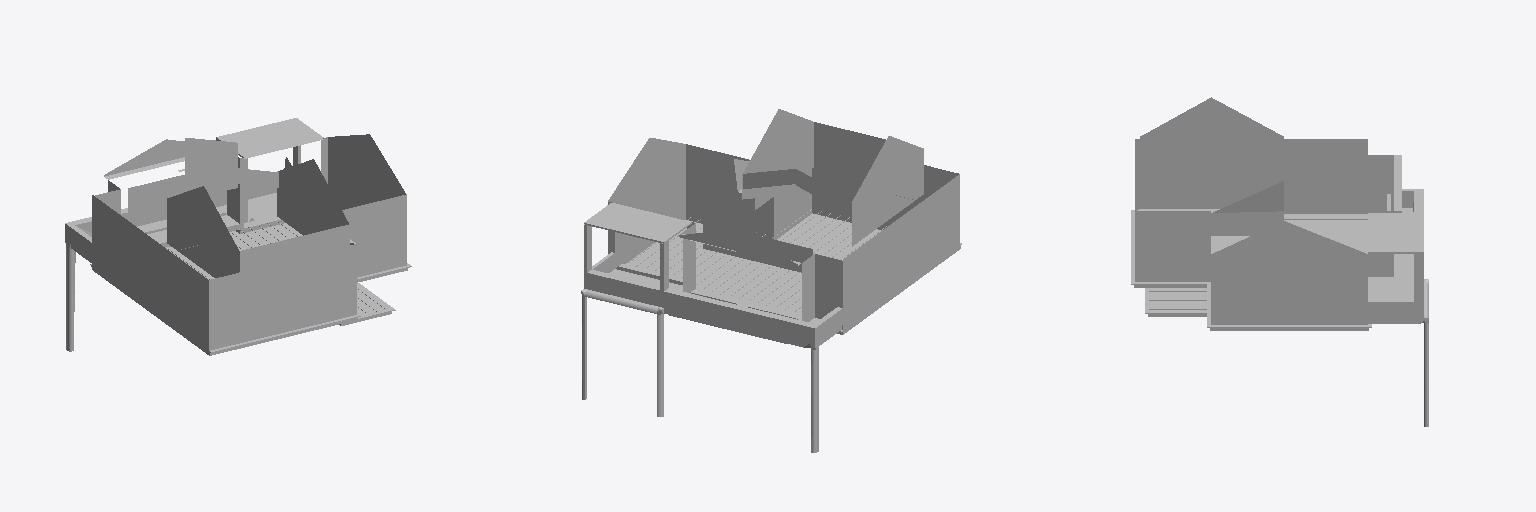
3 views of the same model, side by side, from view 1: azimuth 30°, elevation 25°; view 2: azimuth 150°, elevation 25°; view 3: azimuth 270°, elevation 25° (orthographic).
Parts seen in each view (by area): view 1: MH1_OBJ_05_MH1_OBJ_05.001; view 2: MH1_OBJ_05_MH1_OBJ_05.001; view 3: MH1_OBJ_05_MH1_OBJ_05.001.
Part boxes in pixels (x1,y1,x2,y2): MH1_OBJ_05_MH1_OBJ_05.001: (65,118,411,355); MH1_OBJ_05_MH1_OBJ_05.001: (581,109,961,452); MH1_OBJ_05_MH1_OBJ_05.001: (1131,97,1428,426).
Bounding box in the file's own units: 128 × 119 × 138.